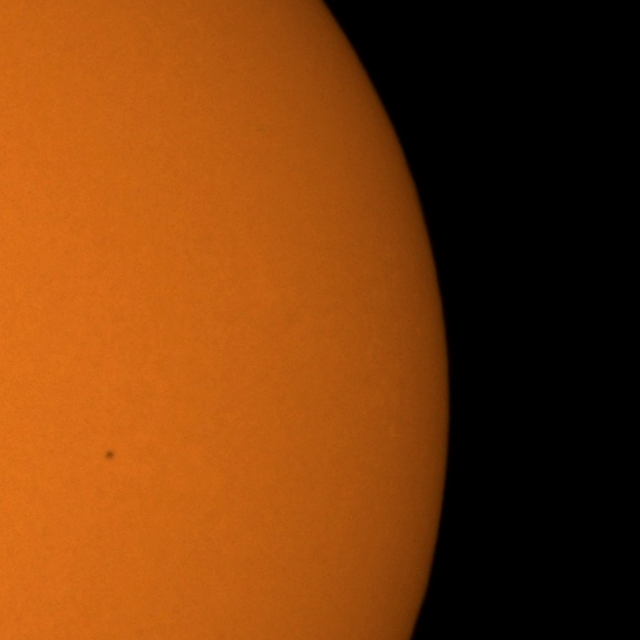sunspot: (103, 448, 116, 462)
